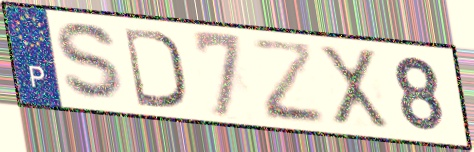7: (189, 27, 247, 121)
8: (391, 53, 448, 136)
D: (120, 24, 188, 112)
S: (53, 19, 132, 105)
X: (315, 43, 393, 131)
Z: (247, 37, 329, 127)
